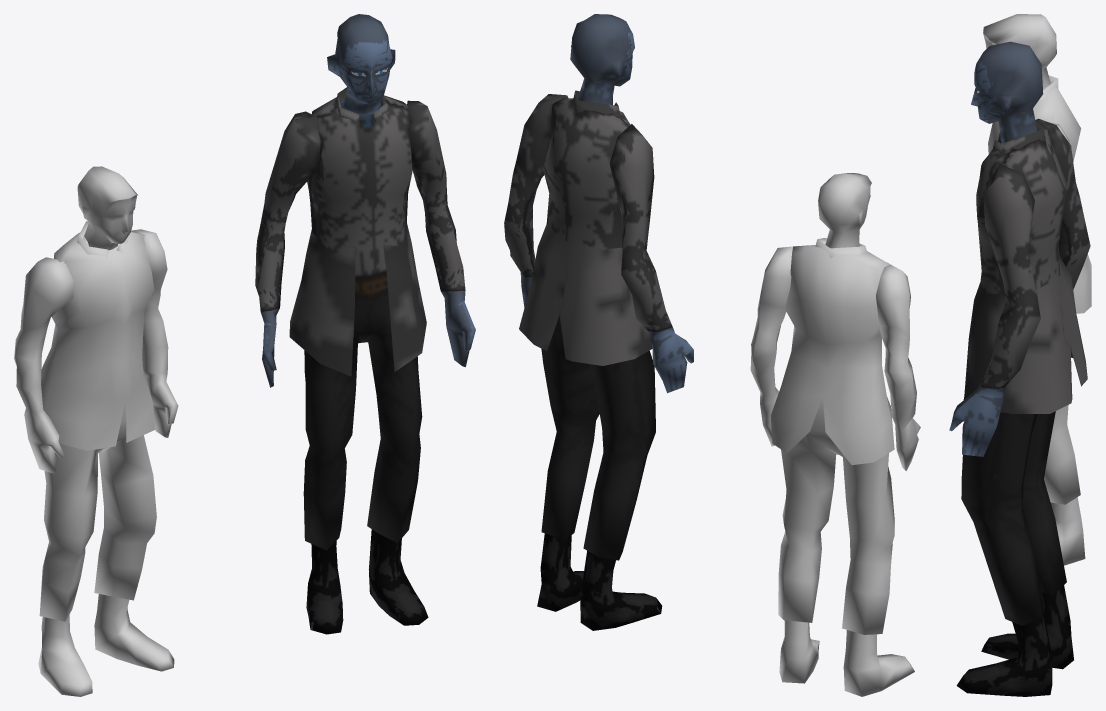
The model's file is characters - aliens.fbx.
3 renders of one model, left to right at view 1: azimuth 30°, elevation 25°; view 2: azimuth 150°, elevation 25°; view 3: azimuth 270°, elevation 25°, orthographic. The views are drawn at different scales.
Visible parts, largest first — view 1: Officer_terran_1.001, Officer_terran_1; view 2: Officer_terran_1.001, Officer_terran_1; view 3: Officer_terran_1.001, Officer_terran_1.
Part boxes in pixels (left/top/right/bottom): Officer_terran_1.001: left=255, top=14, right=475, bottom=634; Officer_terran_1: left=14, top=166, right=178, bottom=696; Officer_terran_1.001: left=504, top=14, right=693, bottom=630; Officer_terran_1: left=750, top=173, right=920, bottom=696; Officer_terran_1.001: left=949, top=41, right=1090, bottom=696; Officer_terran_1: left=983, top=14, right=1091, bottom=565.
Size of the model in its own units: 169 by 225 by 46.4.
